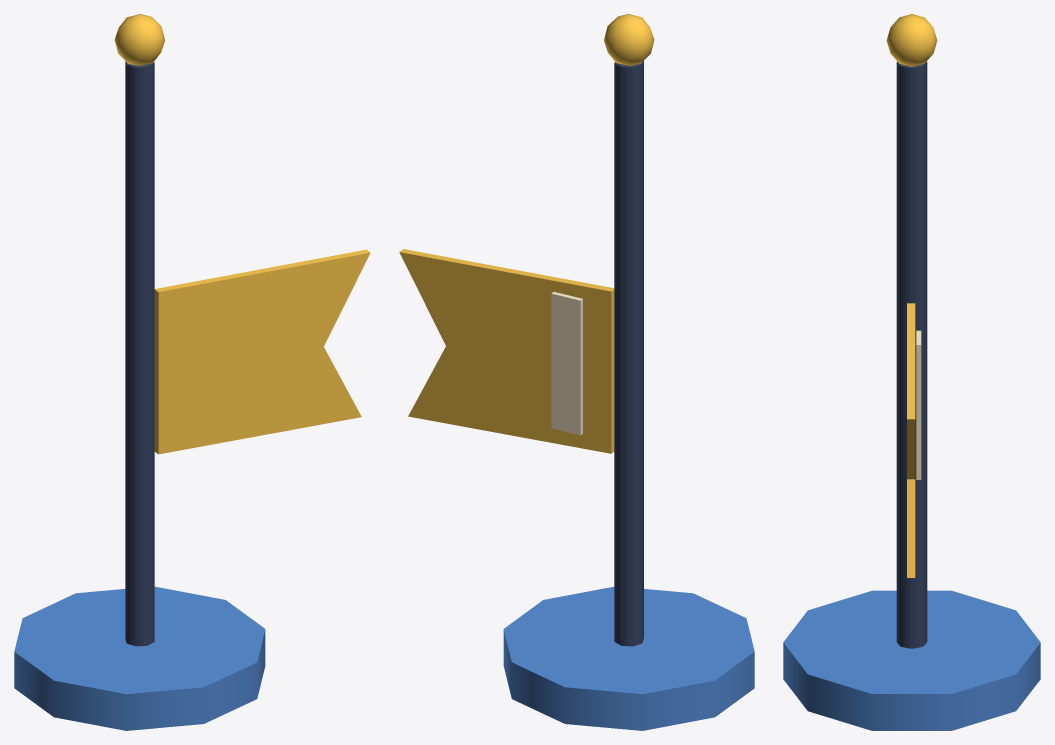
File: checkpoint-flag.glb
The picture shows the model from 3 angles, left to right: view 1: azimuth 30°, elevation 25°; view 2: azimuth 150°, elevation 25°; view 3: azimuth 270°, elevation 25°; orthographic projection.
Parts seen in each view (by area): view 1: banner, base, pole, finial; view 2: base, banner, pole, stripe, finial; view 3: base, pole, banner, finial, stripe.
Part boxes in pixels (bbox=[...]): banner: bbox=[154, 249, 370, 454]; base: bbox=[14, 586, 265, 730]; pole: bbox=[125, 61, 154, 646]; finial: bbox=[114, 14, 165, 65]; base: bbox=[503, 586, 754, 730]; banner: bbox=[399, 249, 614, 453]; pole: bbox=[614, 61, 643, 646]; stripe: bbox=[551, 292, 582, 435]; finial: bbox=[604, 14, 654, 66]; base: bbox=[783, 590, 1040, 730]; pole: bbox=[896, 61, 927, 648]; banner: bbox=[907, 303, 915, 577]; finial: bbox=[886, 14, 937, 66]; stripe: bbox=[916, 330, 921, 479].
Bounding box in the file's own units: 1.14 × 2.16 × 0.76.
